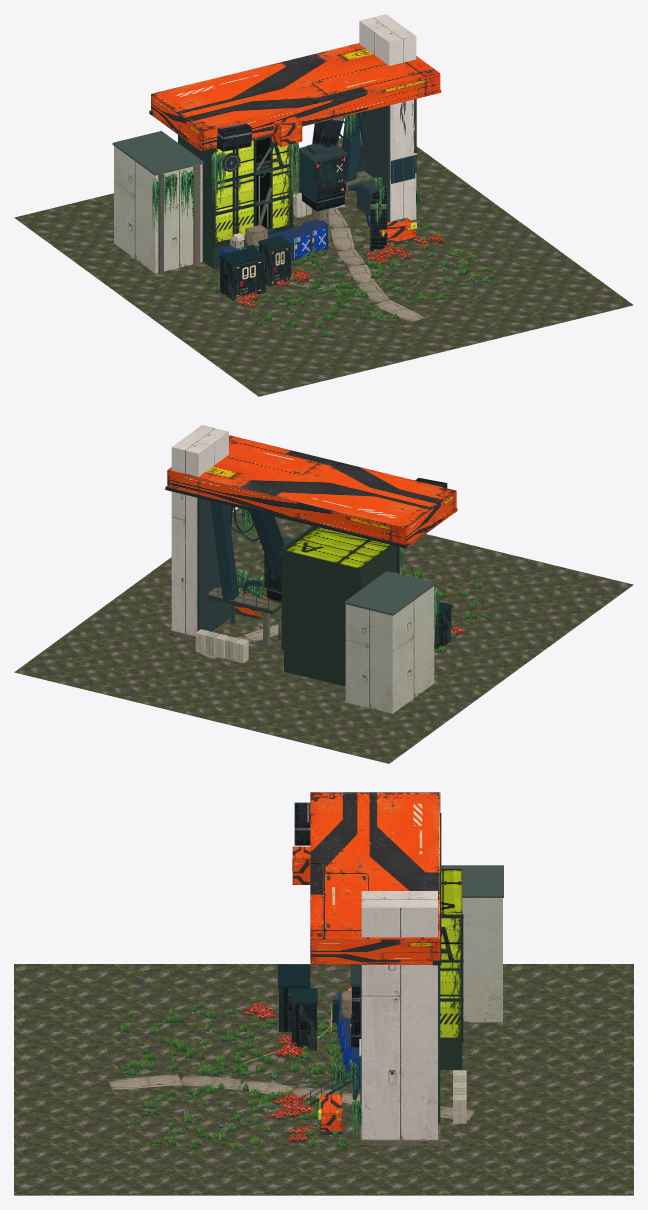
The model's file is warden-reclaimed-yard-v1.glb.
3 views of the same model, one above another, from view 1: azimuth 30°, elevation 25°; view 2: azimuth 150°, elevation 25°; view 3: azimuth 270°, elevation 25° (orthographic). The views are drawn at different scales.
Parts seen in each view (by area): view 1: Mossy_ground, Batched_architecture, Batched_utility, Batched_solid, Atlas_cutout_vegetation; view 2: Mossy_ground, Batched_solid, Batched_architecture, Batched_utility, Atlas_cutout_vegetation; view 3: Mossy_ground, Batched_utility, Batched_architecture, Atlas_cutout_vegetation, Batched_solid.
Boxes of the visible parts, x1=… form: Mossy_ground: x1=14, y1=137, x2=633, y2=396; Batched_architecture: x1=151, y1=43, x2=441, y2=300; Batched_utility: x1=114, y1=14, x2=424, y2=322; Batched_solid: x1=112, y1=105, x2=416, y2=289; Atlas_cutout_vegetation: x1=152, y1=114, x2=503, y2=341; Mossy_ground: x1=14, y1=508, x2=633, y2=763; Batched_solid: x1=165, y1=480, x2=452, y2=686; Batched_architecture: x1=167, y1=435, x2=457, y2=649; Batched_utility: x1=169, y1=425, x2=447, y2=713; Atlas_cutout_vegetation: x1=236, y1=508, x2=502, y2=652; Mossy_ground: x1=14, y1=964, x2=633, y2=1195; Batched_utility: x1=108, y1=802, x2=502, y2=1146; Batched_architecture: x1=279, y1=792, x2=462, y2=1131; Atlas_cutout_vegetation: x1=118, y1=1001, x2=361, y2=1150; Batched_solid: x1=243, y1=813, x2=503, y2=1134.
Bounding box in the file's own units: 46 × 22.11 × 52.
Materials: 5 (4 with a texture image).
